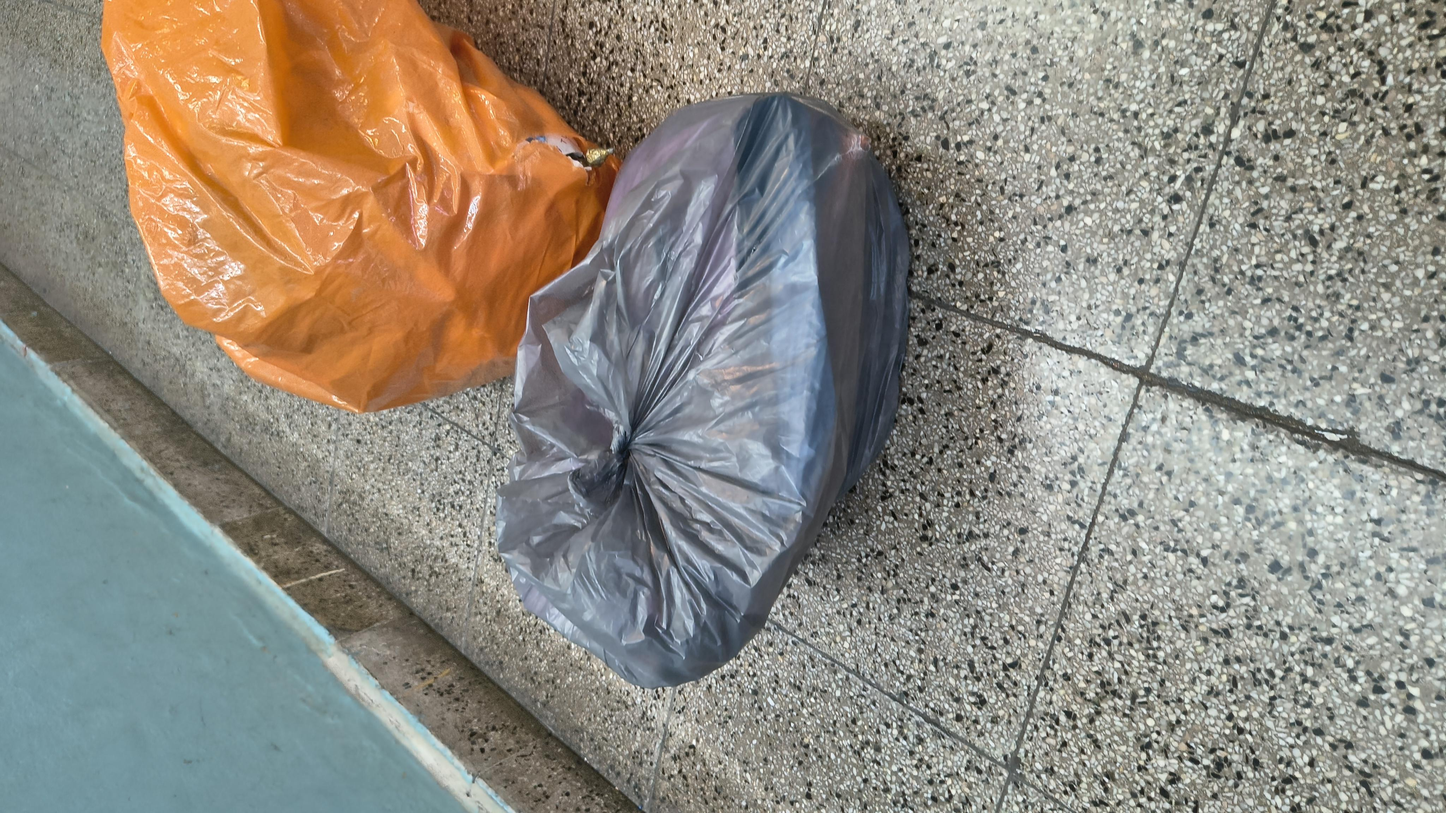Garbage: (195, 262, 1318, 552), (646, 48, 1446, 347)
